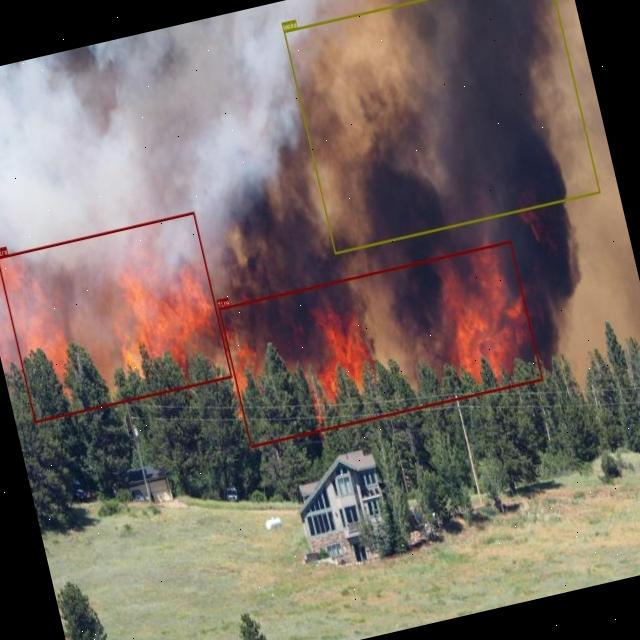fire: (219, 240, 543, 447), (0, 212, 231, 422)
smoke: (282, 0, 599, 253)
